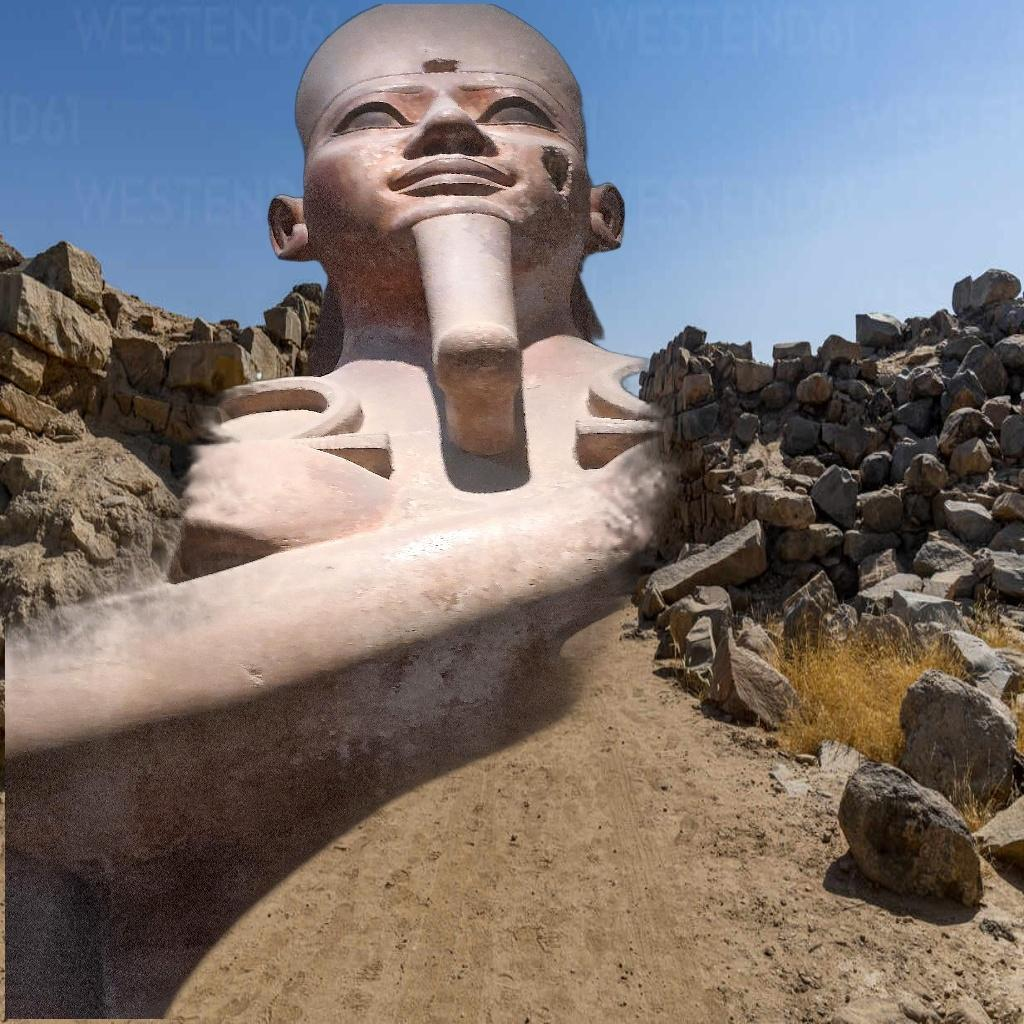Colossus of Senuseret I: (6, 4, 1017, 1019)
